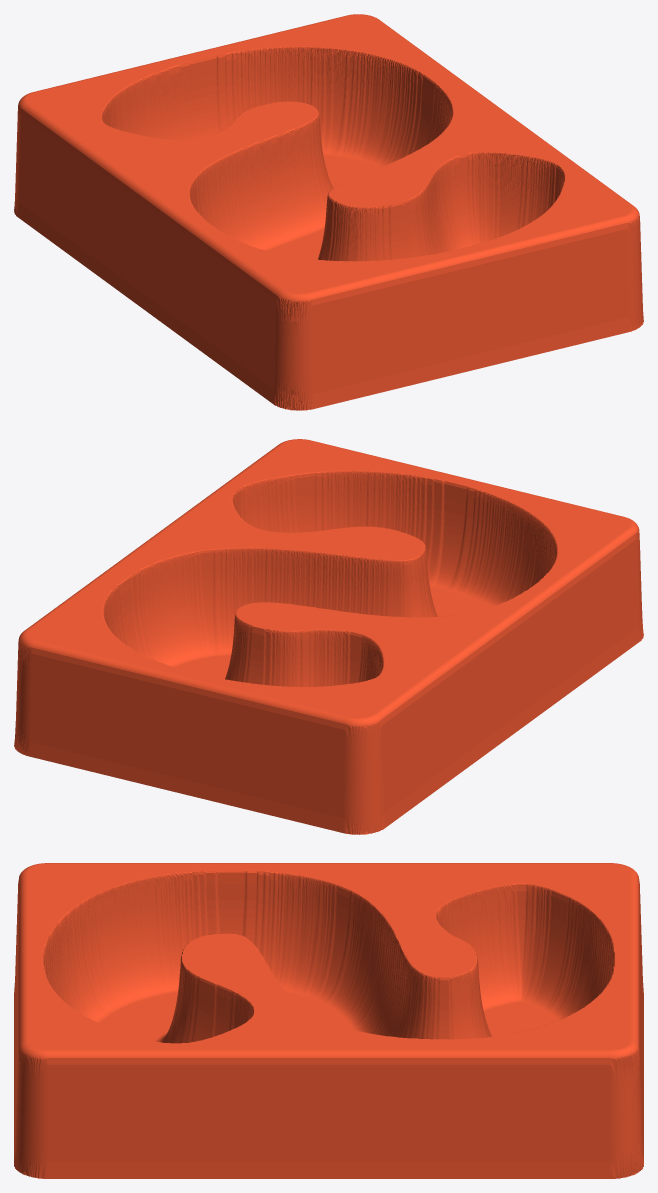
The model's file is mold.glb.
3 renders of one model, top to bottom at view 1: azimuth 30°, elevation 25°; view 2: azimuth 150°, elevation 25°; view 3: azimuth 270°, elevation 25°, orthographic. The views are drawn at different scales.
Visible parts, largest first — view 1: geometry_0; view 2: geometry_0; view 3: geometry_0.
Boxes of the visible parts, bbox=[...] form: geometry_0: bbox=[14, 14, 643, 410]; geometry_0: bbox=[14, 439, 643, 834]; geometry_0: bbox=[14, 863, 643, 1178].
Bounding box in the file's own units: 0.1253 × 0.0365 × 0.1689.
